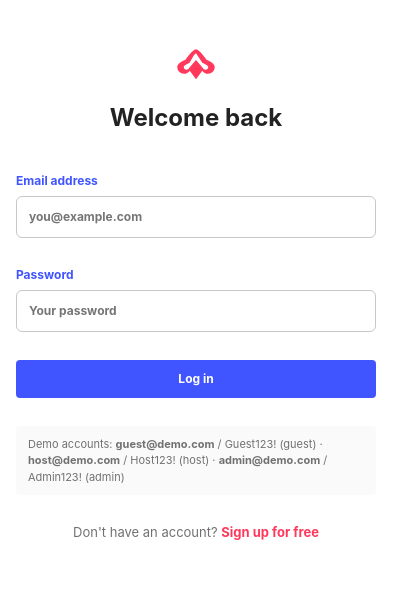
Login page validation › shows an error for a password under 6 characters
The image size is (393, 591).
Step 1. Type "guest@demo.com" into the field with placeholder "you@example.com" → (196, 217), box [16,196,376,238]
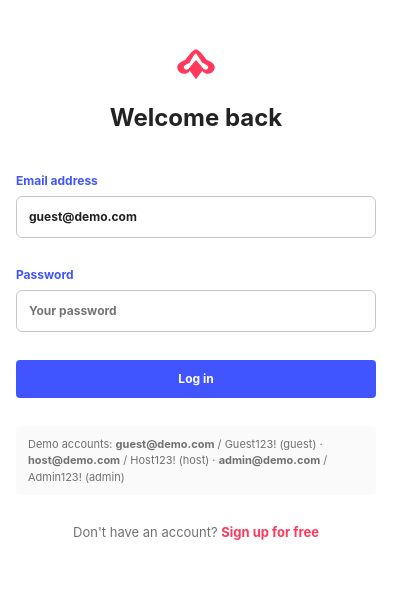
Step 2. Type "123" into the password field with placeholder "Your password" → (196, 311), box [16,290,376,332]
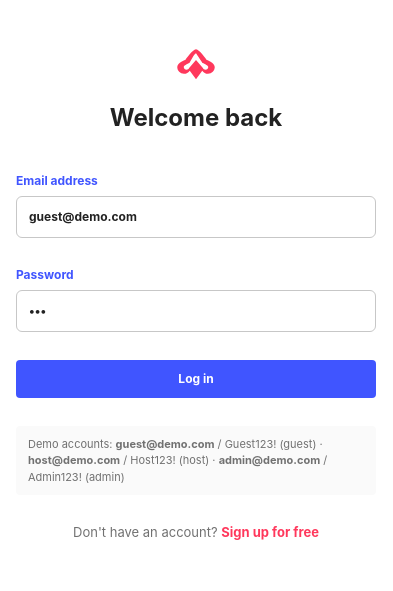
Step 3. Click the button "Log in" → click(196, 379), box [16,360,376,398]
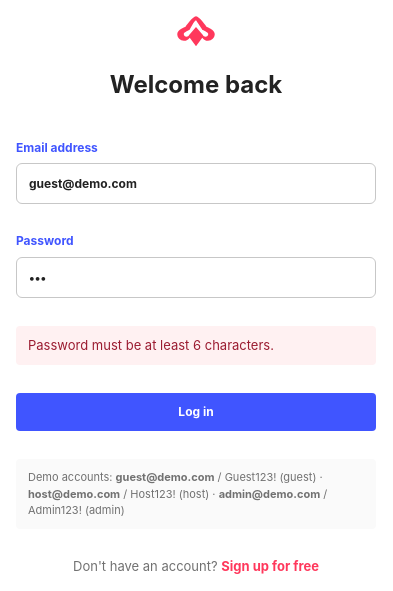
Result: the message shows "6 characters" at [28,337,274,353]
